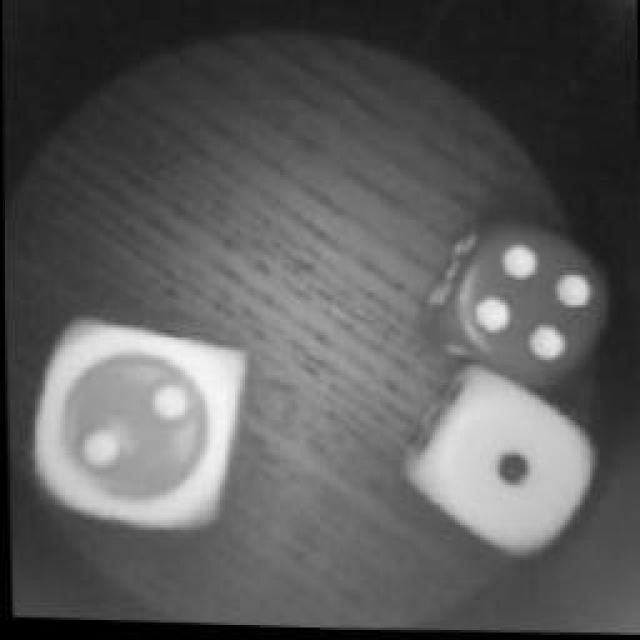dice_1: (405, 372, 595, 568)
dice_2: (23, 320, 248, 535)
dice_4: (441, 224, 611, 388)
